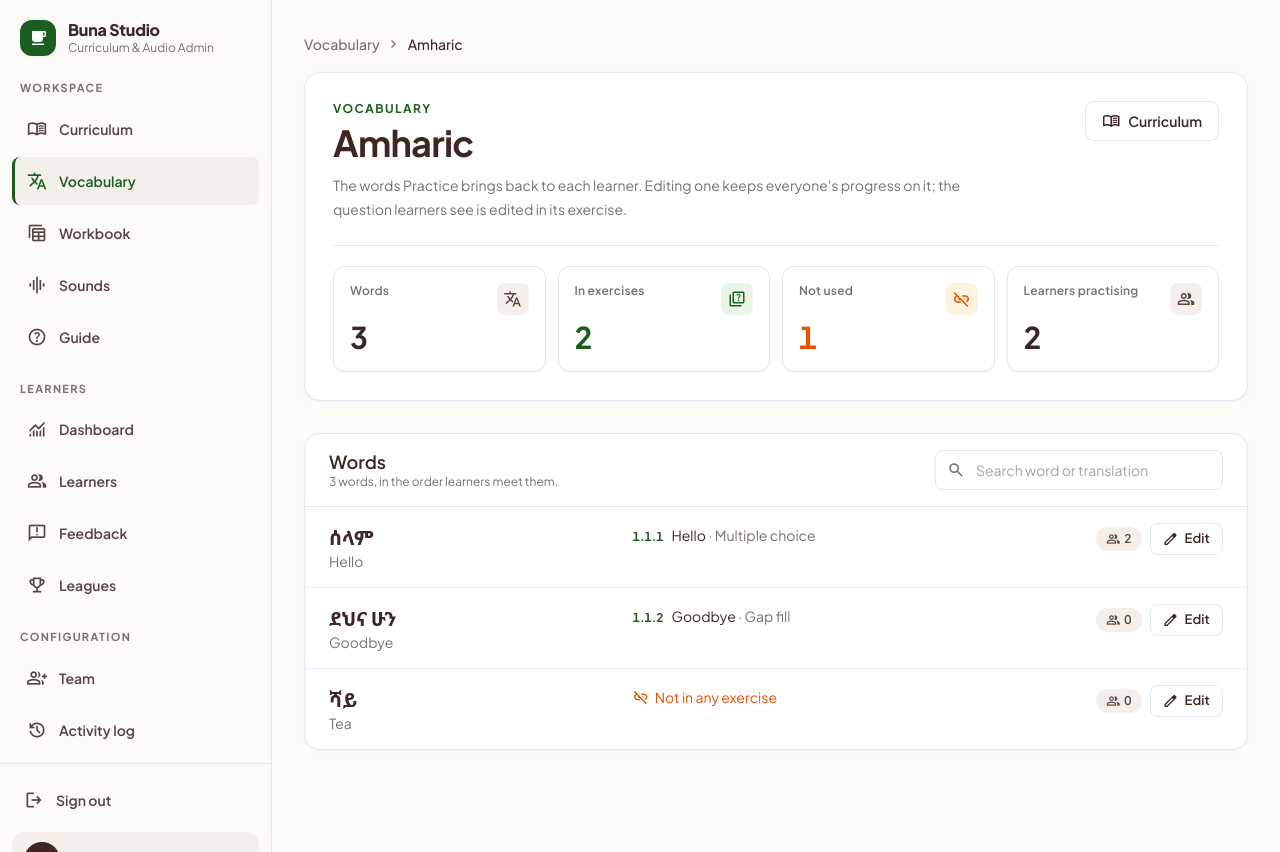
the vocabulary page › shows any other failure in the banner and reloads the list
This screenshot has width=1280, height=852.
Expected: the heading "Amharic" is shown, [333,120,474,165]
Click the button with aria-label "Edit ሰላም" at (1186, 539), box [1150,523,1223,555]
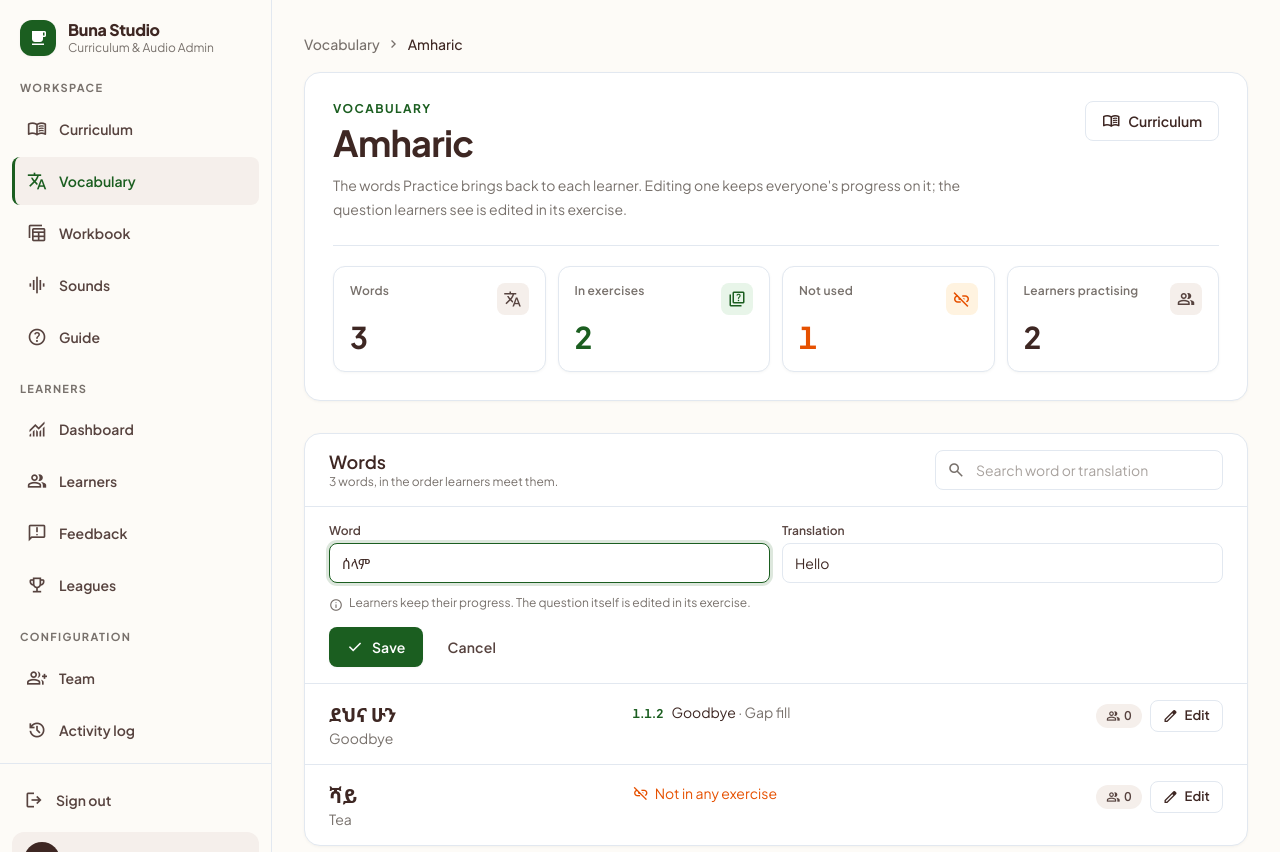
Click the button "Save" at (376, 647), box [329,627,423,667]
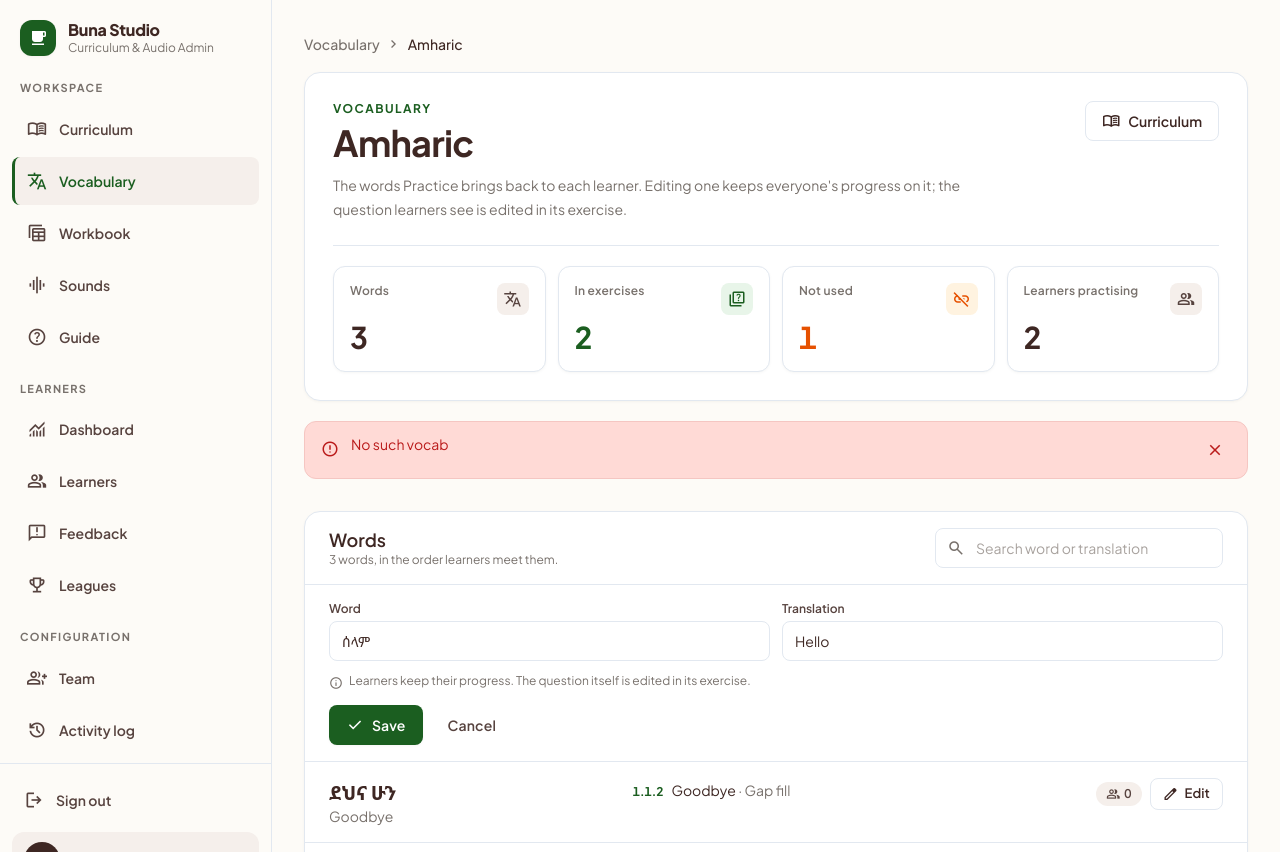
Now the text "No such vocab" is shown, box [351,435,449,453]
